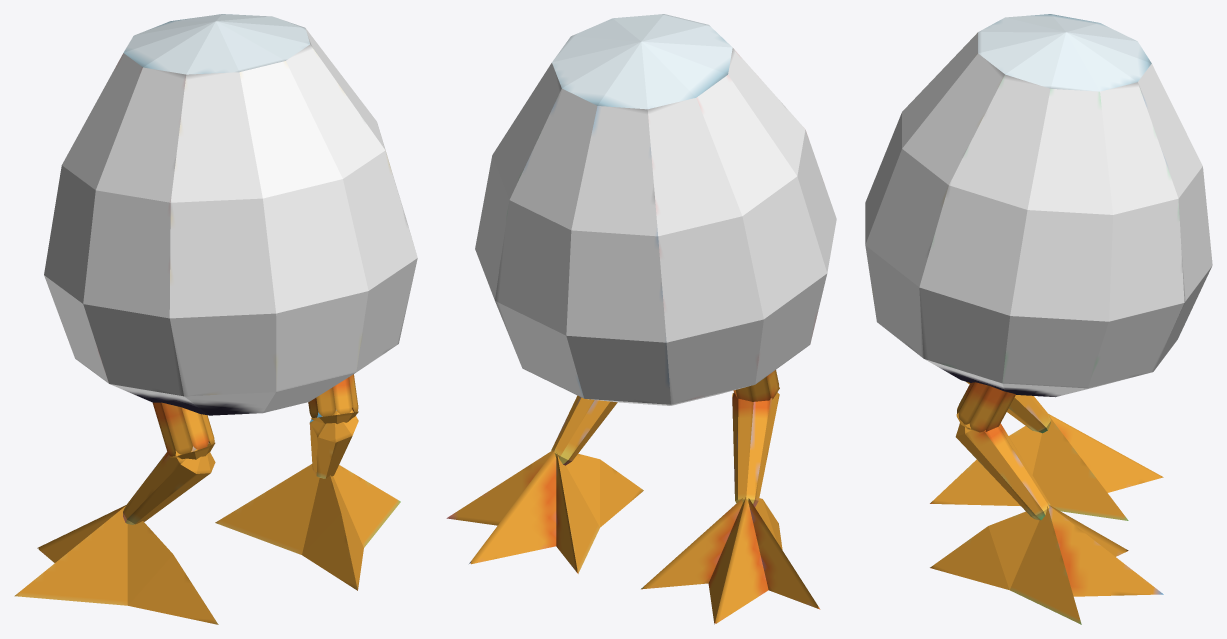
File: EggPlayer.fbx
The picture shows the model from 3 angles, left to right: view 1: azimuth 30°, elevation 25°; view 2: azimuth 150°, elevation 25°; view 3: azimuth 270°, elevation 25°; orthographic projection. The views are drawn at different scales.
Visible parts, largest first — view 1: Body, foot L, foot R, lower L, upper L, lower R, upper R; view 2: Body, foot R, foot L, lower L, lower R, upper L; view 3: Body, foot R, foot L, lower R, upper R, lower L.
Boxes of the visible parts, x1=… form: Body: x1=44, y1=14, x2=417, y2=415; foot L: x1=14, y1=505, x2=218, y2=624; foot R: x1=215, y1=464, x2=400, y2=590; lower L: x1=123, y1=446, x2=215, y2=524; upper L: x1=152, y1=402, x2=215, y2=459; lower R: x1=309, y1=409, x2=358, y2=478; upper R: x1=308, y1=374, x2=358, y2=423; Body: x1=475, y1=14, x2=836, y2=405; foot R: x1=446, y1=449, x2=643, y2=573; foot L: x1=641, y1=497, x2=820, y2=624; lower L: x1=732, y1=392, x2=779, y2=506; lower R: x1=551, y1=395, x2=617, y2=465; upper L: x1=733, y1=370, x2=779, y2=401; Body: x1=865, y1=14, x2=1212, y2=397; foot R: x1=930, y1=505, x2=1163, y2=624; foot L: x1=930, y1=414, x2=1163, y2=520; lower R: x1=955, y1=423, x2=1050, y2=520; upper R: x1=956, y1=382, x2=1015, y2=433; lower L: x1=966, y1=382, x2=1050, y2=433.
Bounding box in the file's own units: 31.21 × 41.13 × 25.71.
1 material, 1 textured.
